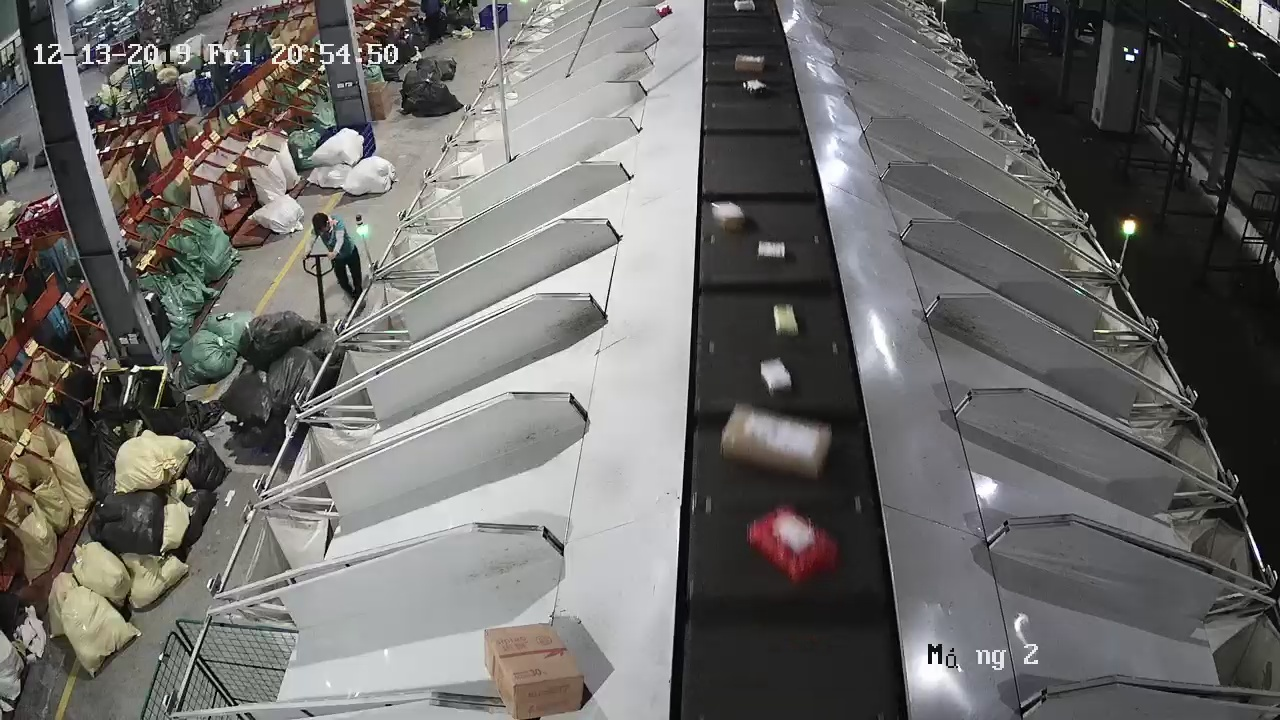parcel: (710, 199, 746, 233)
